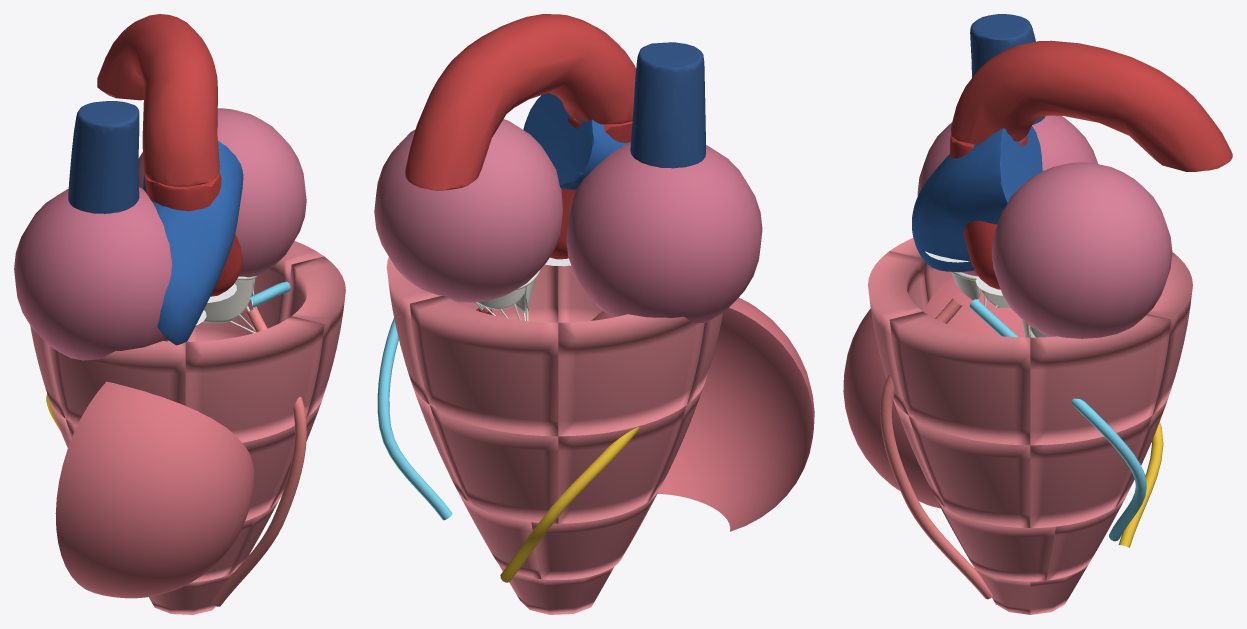
File: realistic_heart.glb
3 views of the same model, side by side, from view 1: azimuth 30°, elevation 25°; view 2: azimuth 150°, elevation 25°; view 3: azimuth 270°, elevation 25° (orthographic). The views are drawn at different scales.
Visible parts, largest first — view 1: right_ventricle, right_atrium, organui_aortic_arch, heart_segment_2_basal_anteroseptal, left_atrium, organui_pulmonary_trunk, organui_superior_vena_cava, heart_segment_3_basal_inferoseptal, heart_segment_1_basal_anterior, heart_segment_6_basal_anterolateral, coronary_lad_artery, heart_segment_8_mid_anteroseptal (+7 smaller); view 2: right_atrium, left_atrium, organui_aortic_arch, right_ventricle, heart_segment_5_basal_inferolateral, heart_segment_4_basal_inferior, heart_segment_11_mid_inferolateral, organui_superior_vena_cava, heart_segment_10_mid_inferior, heart_segment_15_apical_inferior, organui_pulmonary_trunk, heart_segment_17_apex (+10 smaller); view 3: left_atrium, organui_aortic_arch, heart_segment_1_basal_anterior, heart_segment_6_basal_anterolateral, organui_pulmonary_trunk, right_ventricle, heart_segment_7_mid_anterior, heart_segment_12_mid_anterolateral, heart_segment_13_apical_anterior, heart_segment_2_basal_anteroseptal, coronary_lad_artery, right_atrium (+10 smaller).
Boxes of the visible parts, x1=… form: right_ventricle: x1=55, y1=381, x2=254, y2=598; right_atrium: x1=14, y1=187, x2=171, y2=360; organui_aortic_arch: x1=97, y1=14, x2=219, y2=186; heart_segment_2_basal_anteroseptal: x1=185, y1=316, x2=324, y2=442; left_atrium: x1=138, y1=108, x2=306, y2=277; organui_pulmonary_trunk: x1=143, y1=141, x2=243, y2=345; organui_superior_vena_cava: x1=68, y1=101, x2=139, y2=213; heart_segment_3_basal_inferoseptal: x1=49, y1=341, x2=185, y2=425; heart_segment_1_basal_anterior: x1=284, y1=256, x2=345, y2=418; heart_segment_6_basal_anterolateral: x1=187, y1=240, x2=323, y2=341; coronary_lad_artery: x1=212, y1=308, x2=306, y2=606; heart_segment_8_mid_anteroseptal: x1=242, y1=426, x2=294, y2=520; right_atrium: x1=566, y1=142, x2=762, y2=323; left_atrium: x1=374, y1=119, x2=562, y2=302; organui_aortic_arch: x1=405, y1=14, x2=636, y2=190; right_ventricle: x1=591, y1=297, x2=814, y2=531; heart_segment_5_basal_inferolateral: x1=410, y1=296, x2=558, y2=436; heart_segment_4_basal_inferior: x1=558, y1=314, x2=704, y2=436; heart_segment_11_mid_inferolateral: x1=430, y1=405, x2=558, y2=523; organui_superior_vena_cava: x1=630, y1=42, x2=706, y2=168; heart_segment_10_mid_inferior: x1=558, y1=405, x2=686, y2=523; heart_segment_15_apical_inferior: x1=531, y1=492, x2=657, y2=580; organui_pulmonary_trunk: x1=523, y1=93, x2=629, y2=189; heart_segment_17_apex: x1=498, y1=563, x2=614, y2=614; left_atrium: x1=991, y1=162, x2=1172, y2=338; organui_aortic_arch: x1=951, y1=40, x2=1232, y2=171; heart_segment_1_basal_anterior: x1=889, y1=311, x2=1030, y2=445; heart_segment_6_basal_anterolateral: x1=1030, y1=314, x2=1170, y2=445; organui_pulmonary_trunk: x1=912, y1=126, x2=1042, y2=272; right_ventricle: x1=843, y1=277, x2=1025, y2=508; heart_segment_7_mid_anterior: x1=909, y1=416, x2=1030, y2=527; heart_segment_12_mid_anterolateral: x1=1030, y1=416, x2=1151, y2=527; heart_segment_13_apical_anterior: x1=935, y1=498, x2=1055, y2=581; heart_segment_2_basal_anteroseptal: x1=868, y1=251, x2=927, y2=415; coronary_lad_artery: x1=880, y1=298, x2=992, y2=599; right_atrium: x1=917, y1=115, x2=1097, y2=276.
Size of the model in its own units: 2.35 by 3.82 by 2.41.
